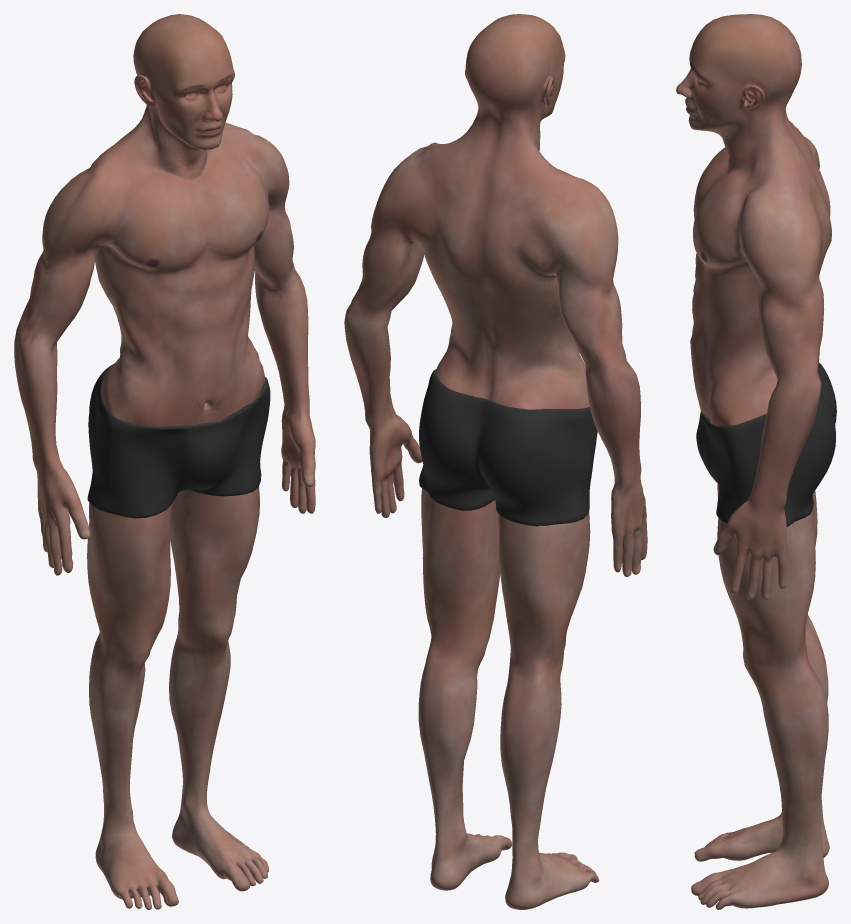
Rendered from Skin.gltf.
3 renders of one model, left to right at view 1: azimuth 30°, elevation 25°; view 2: azimuth 150°, elevation 25°; view 3: azimuth 270°, elevation 25°, orthographic.
Parts seen in each view (by area): view 1: Skin, Shorts; view 2: Skin, Shorts; view 3: Skin, Shorts.
Part boxes in pixels (left/top/right/bottom): Skin: left=14, top=14, right=315, bottom=909; Shorts: left=87, top=363, right=270, bottom=518; Skin: left=344, top=14, right=647, bottom=909; Shorts: left=419, top=369, right=597, bottom=526; Skin: left=676, top=14, right=831, bottom=909; Shorts: left=696, top=362, right=836, bottom=526.
Bounding box in the file's own units: 58.59 × 170 × 28.82.
2 materials, 2 textured.
